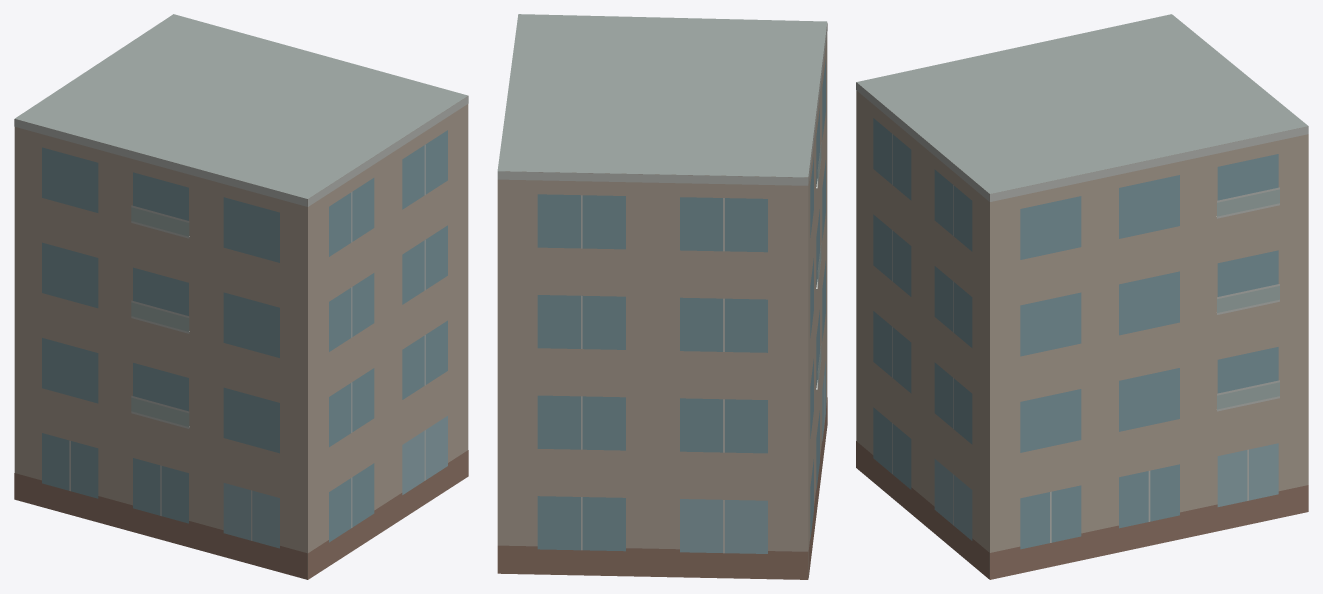
Rendered from survey-upis-32703245.glb.
3 renders of one model, left to right at view 1: azimuth 30°, elevation 25°; view 2: azimuth 150°, elevation 25°; view 3: azimuth 270°, elevation 25°, orthographic. The views are drawn at different scales.
Parts seen in each view (by area): view 1: survey-upis-32703245.tmp; view 2: survey-upis-32703245.tmp; view 3: survey-upis-32703245.tmp.
Part boxes in pixels (x1,y1,x2,y2): survey-upis-32703245.tmp: (14,14,468,579); survey-upis-32703245.tmp: (497,14,827,579); survey-upis-32703245.tmp: (856,14,1308,579).
Bounding box in the file's own units: 11.72 × 11.7 × 12.44.
